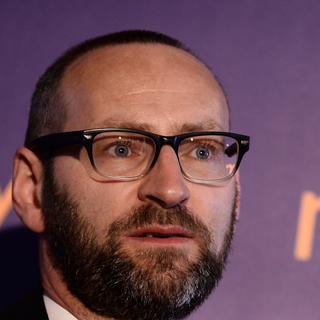eye: (102, 140, 142, 162), (187, 141, 227, 163)
